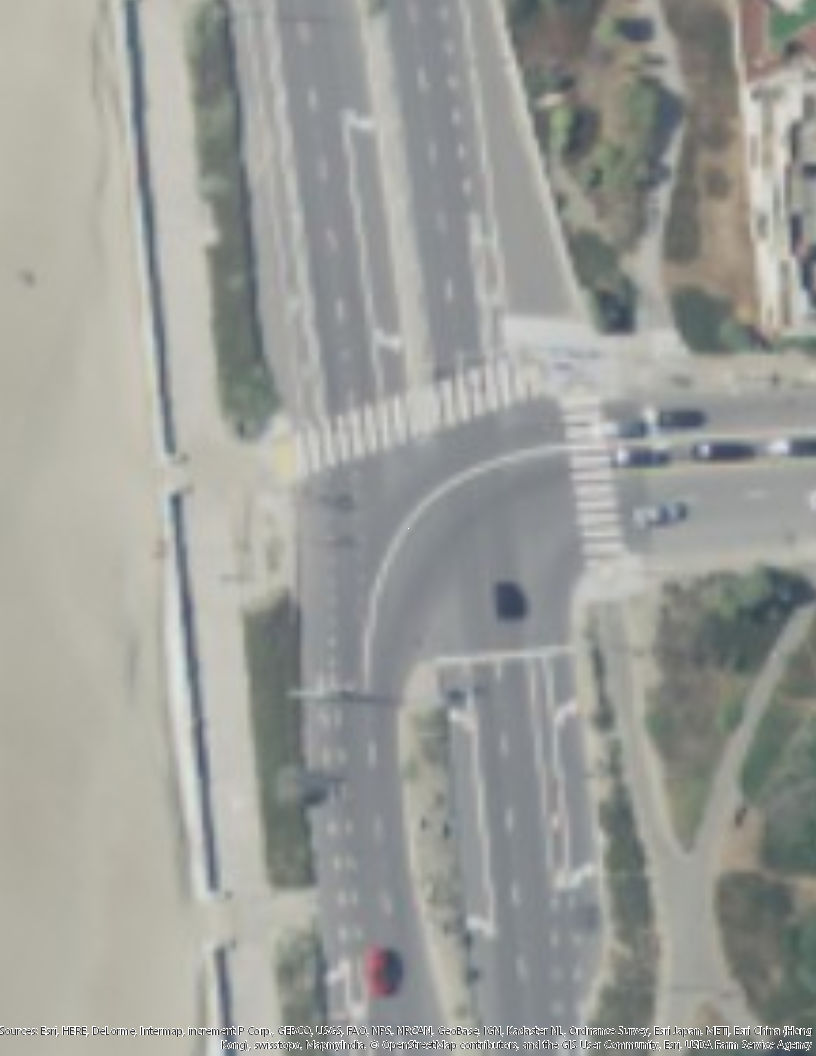zebracross: (558, 399, 629, 578), (292, 389, 424, 482), (431, 348, 544, 427)
